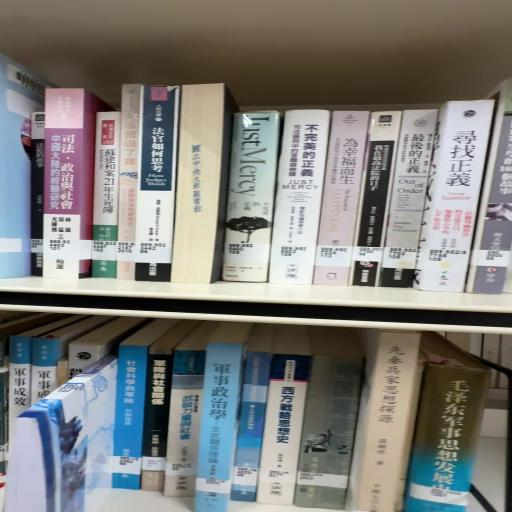backward: (176, 87, 238, 289)
book: (417, 104, 496, 298), (40, 93, 110, 285), (1, 51, 58, 278), (349, 335, 420, 512), (274, 112, 335, 290), (224, 114, 284, 289), (315, 113, 371, 288), (134, 89, 178, 288)
